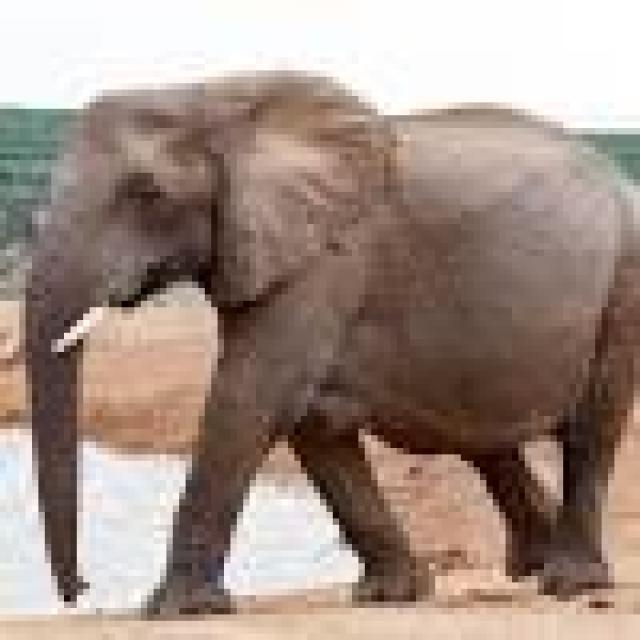Elephant: (19, 70, 634, 608)
